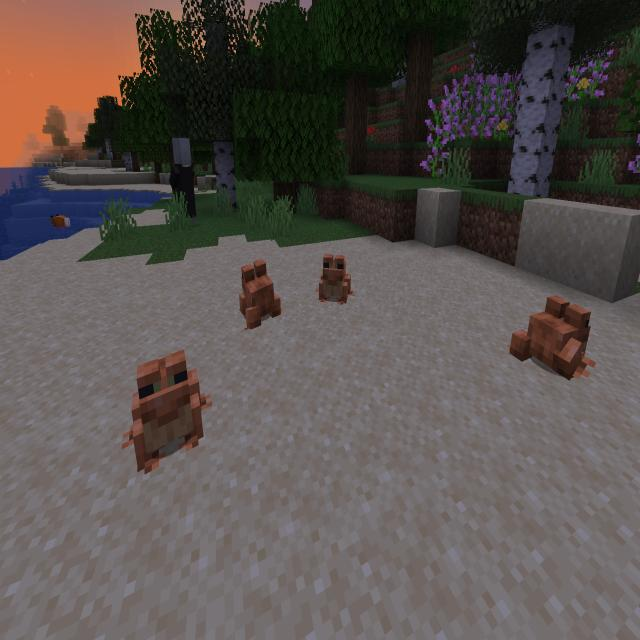Fox: (48, 210, 71, 234)
